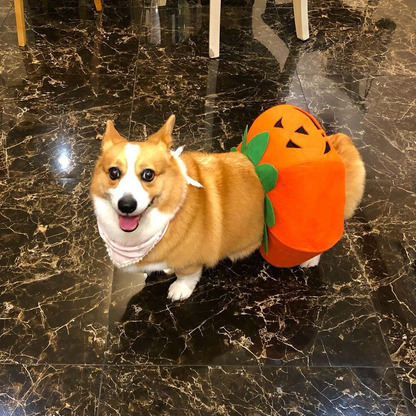Corgi: (89, 111, 282, 302)
